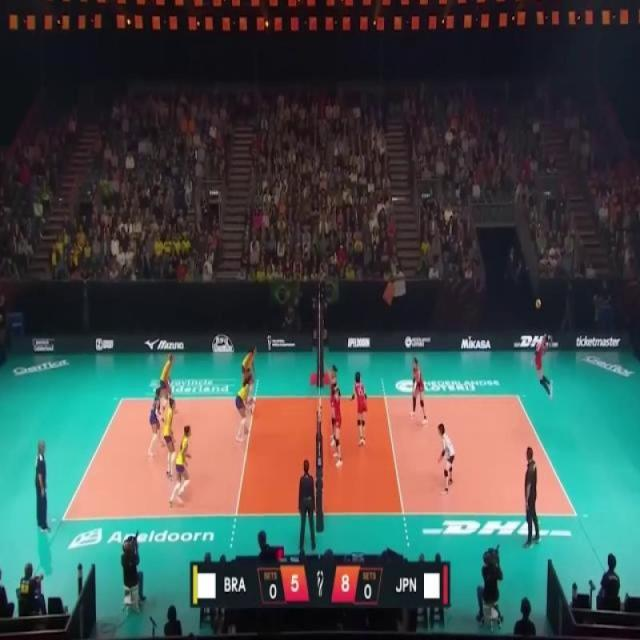volleyball: (536, 298, 541, 310)
